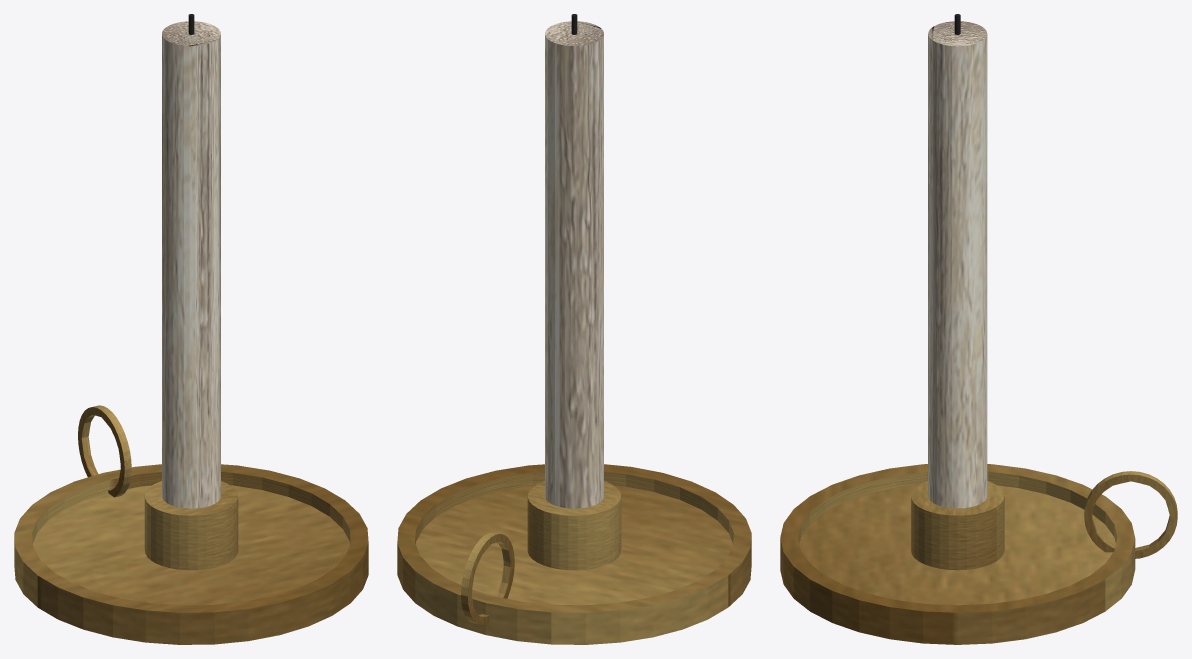
The model's file is candle.glb.
The picture shows the model from 3 angles, left to right: view 1: azimuth 30°, elevation 25°; view 2: azimuth 150°, elevation 25°; view 3: azimuth 270°, elevation 25°; orthographic projection.
Parts seen in each view (by area): view 1: Base1, Candela, Base piccola, cosino; view 2: Base1, Candela, Base piccola, cosino; view 3: Base1, Candela, Base piccola, cosino.
Part boxes in pixels (box(x1,y1,x2,y2)): Base1: box(14, 464, 368, 644); Candela: box(162, 21, 220, 508); Base piccola: box(144, 481, 238, 570); cosino: box(78, 405, 131, 497); Base1: box(397, 464, 751, 644); Candela: box(545, 21, 603, 508); Base piccola: box(527, 481, 621, 570); cosino: box(461, 532, 514, 625); Base1: box(780, 464, 1135, 644); Candela: box(928, 21, 987, 508); Base piccola: box(911, 481, 1004, 570); cosino: box(1084, 471, 1177, 558).
Bounding box in the file's own units: 0.03 × 0.0517 × 0.0336.
Materials: 5 (5 with a texture image).
